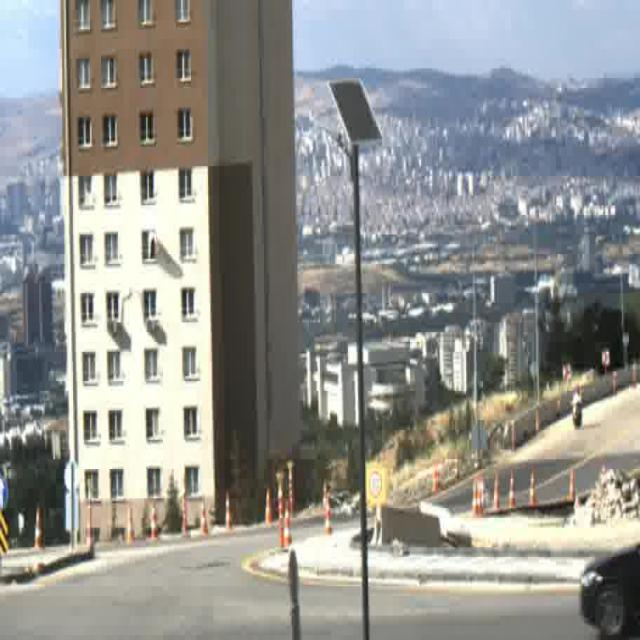Car: (577, 540, 640, 640)
Motorcycle: (571, 389, 583, 428)
